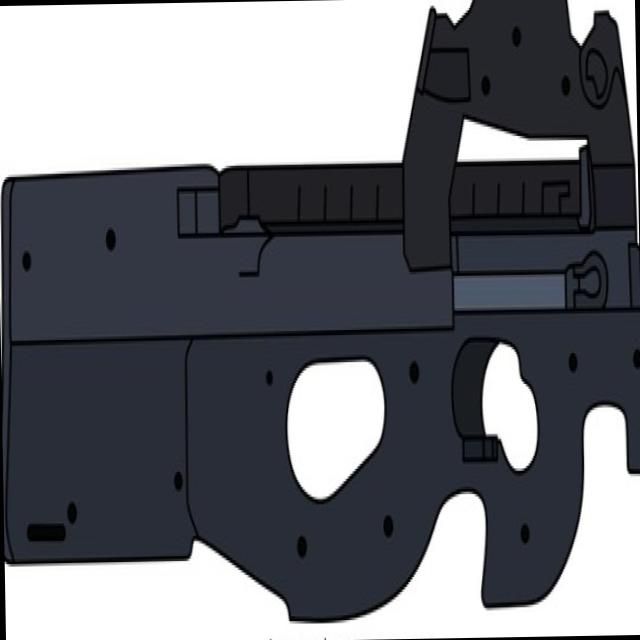Gun: (24, 0, 640, 632)
